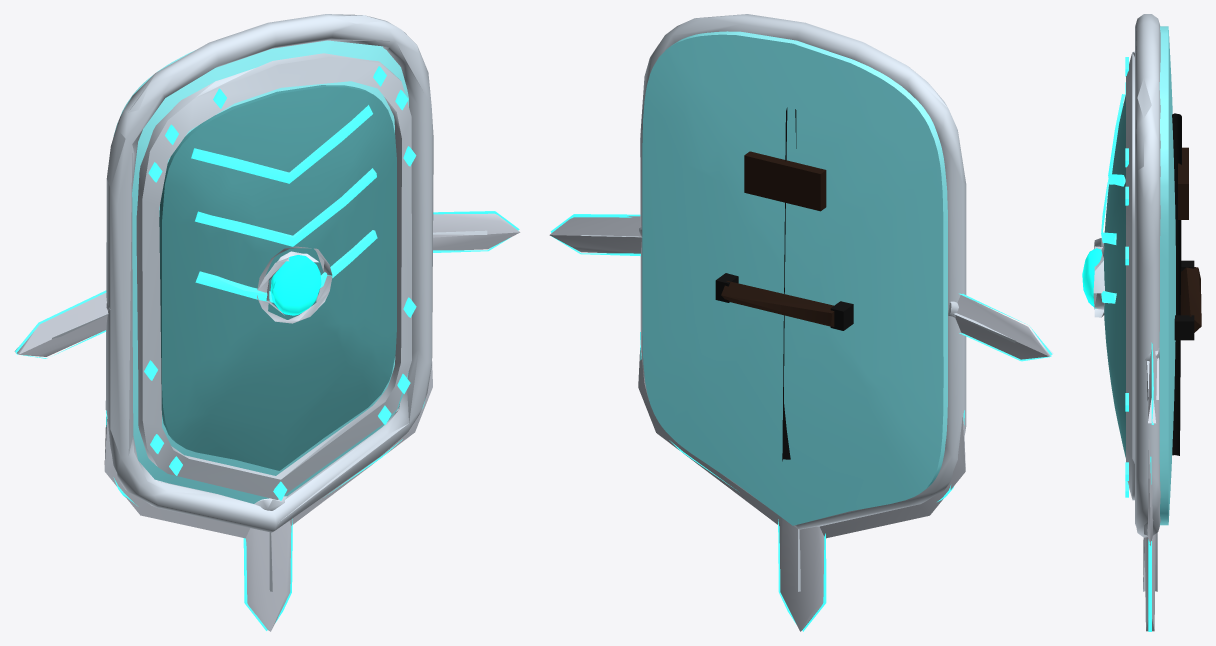
Rendered from greatshield_2.glb.
3 views of the same model, side by side, from view 1: azimuth 30°, elevation 25°; view 2: azimuth 150°, elevation 25°; view 3: azimuth 270°, elevation 25° (orthographic). The views are drawn at different scales.
Parts seen in each view (by area): view 1: greatshield_2; view 2: greatshield_2; view 3: greatshield_2.
Part boxes in pixels (<box>): greatshield_2: <box>14,14,520,631</box>; greatshield_2: <box>549,14,1053,631</box>; greatshield_2: <box>1082,14,1201,631</box>.
Bounding box in the file's own units: 0.9172 × 1.06 × 0.1951.
